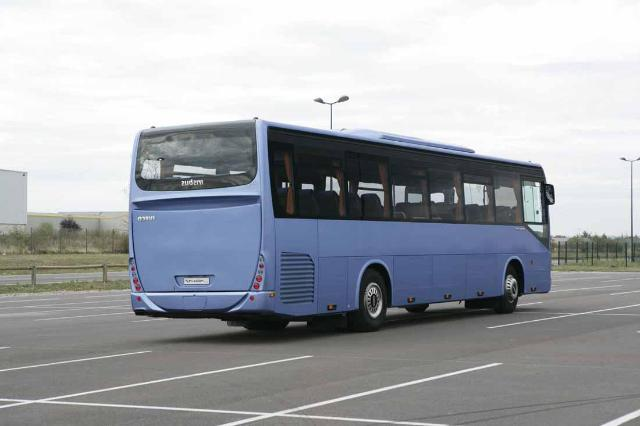bus: (125, 112, 559, 340)
